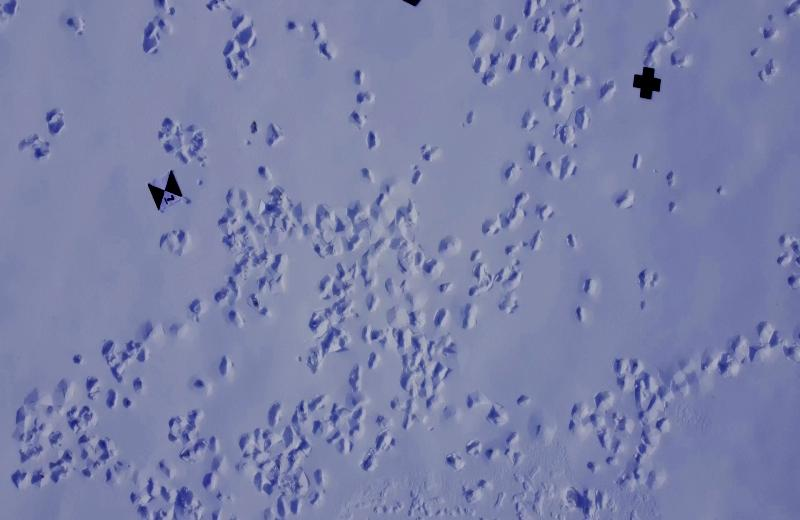Cross: (630, 66, 663, 103)
